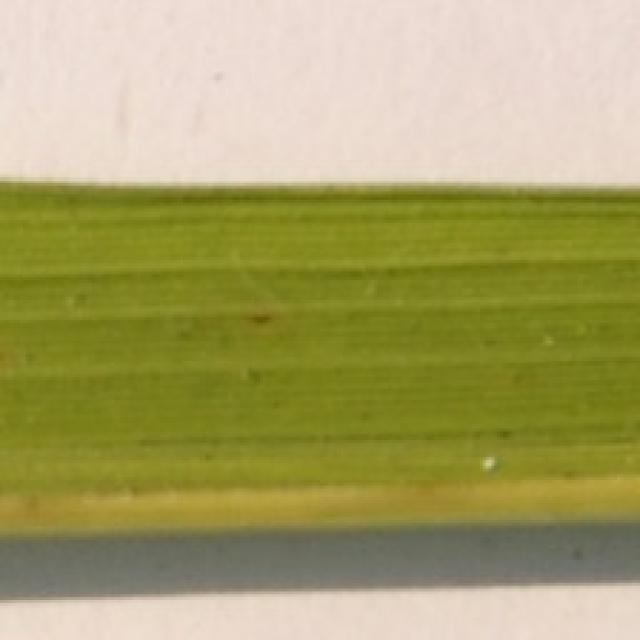Rice___Brown_Spot: (1, 180, 637, 536)
